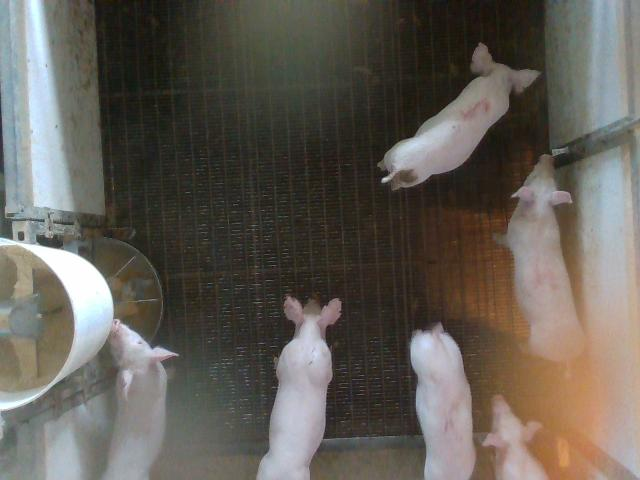pig-4: (504, 155, 584, 361)
pig-5: (378, 42, 540, 189)
